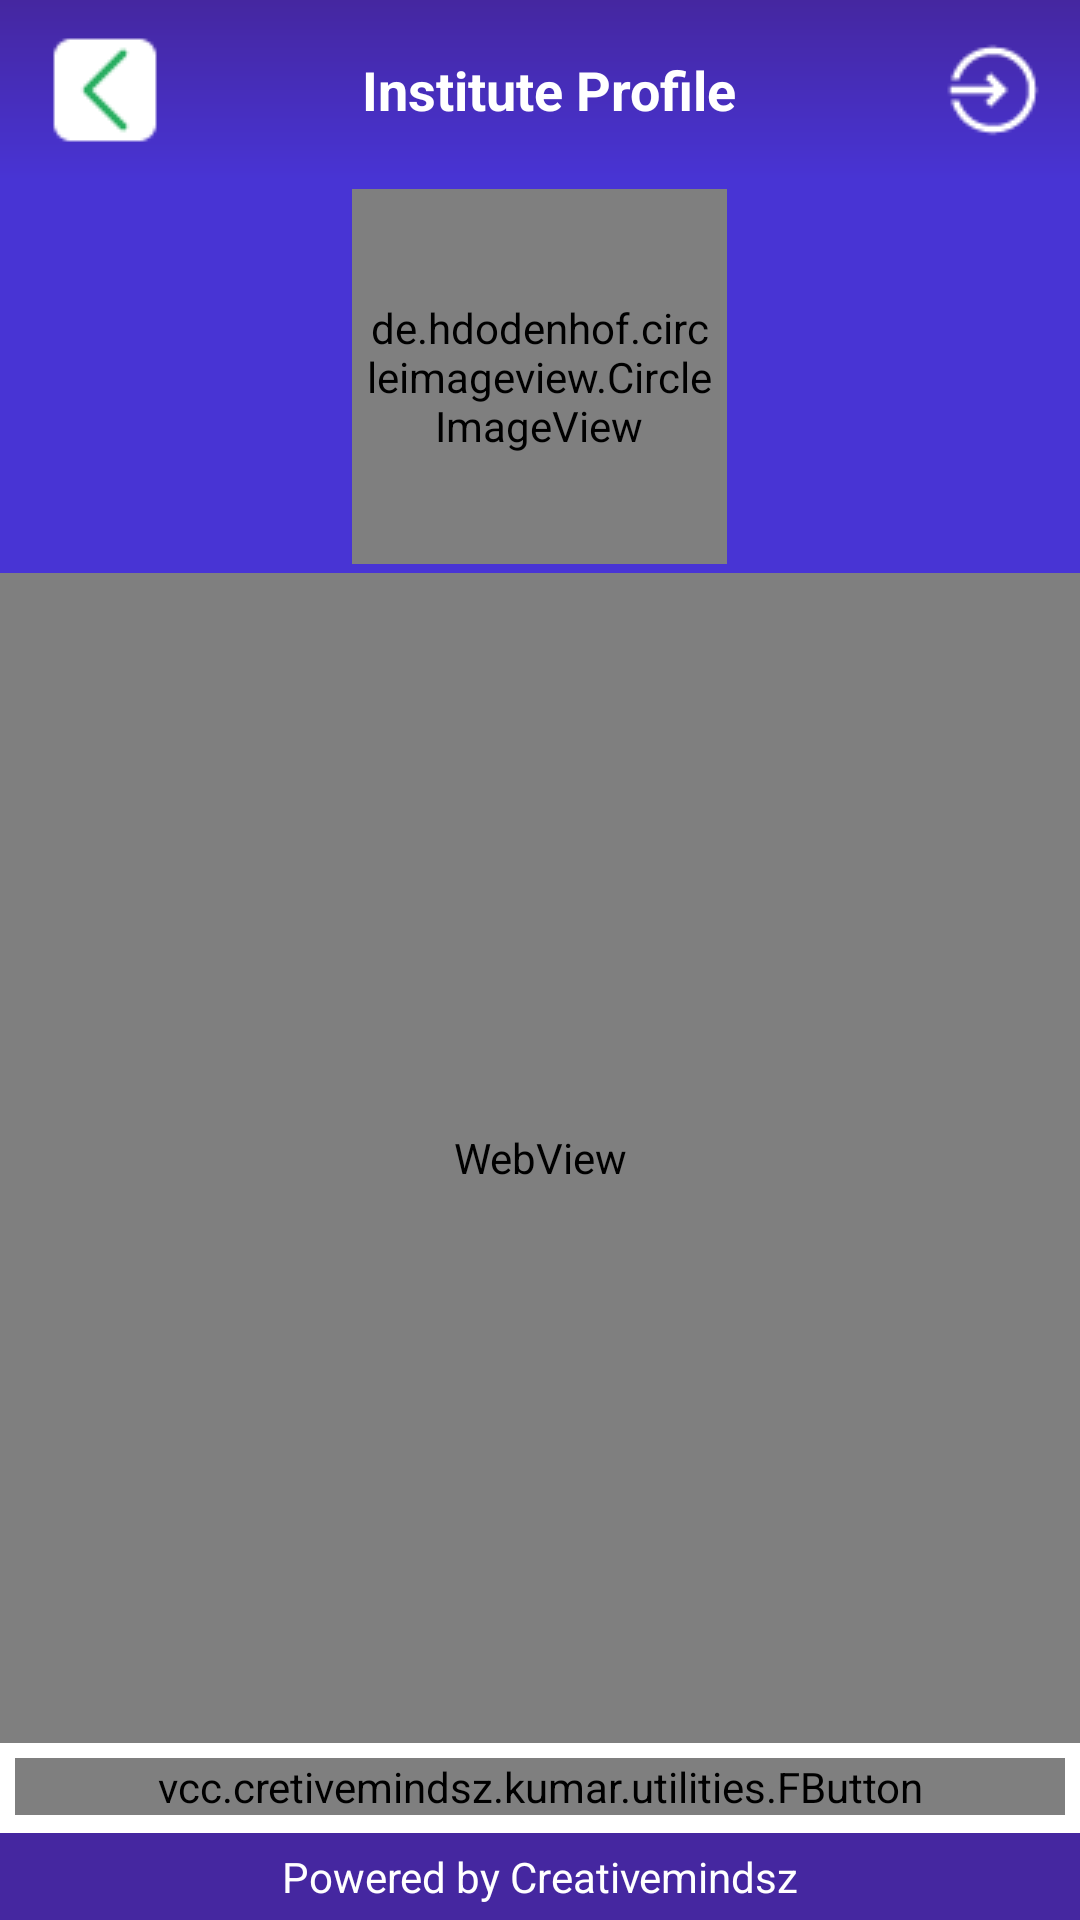

Icon click points for this 1080x1920 phone screenshot, format [x,y]:
back: [105,92]
exit: [993,96]
